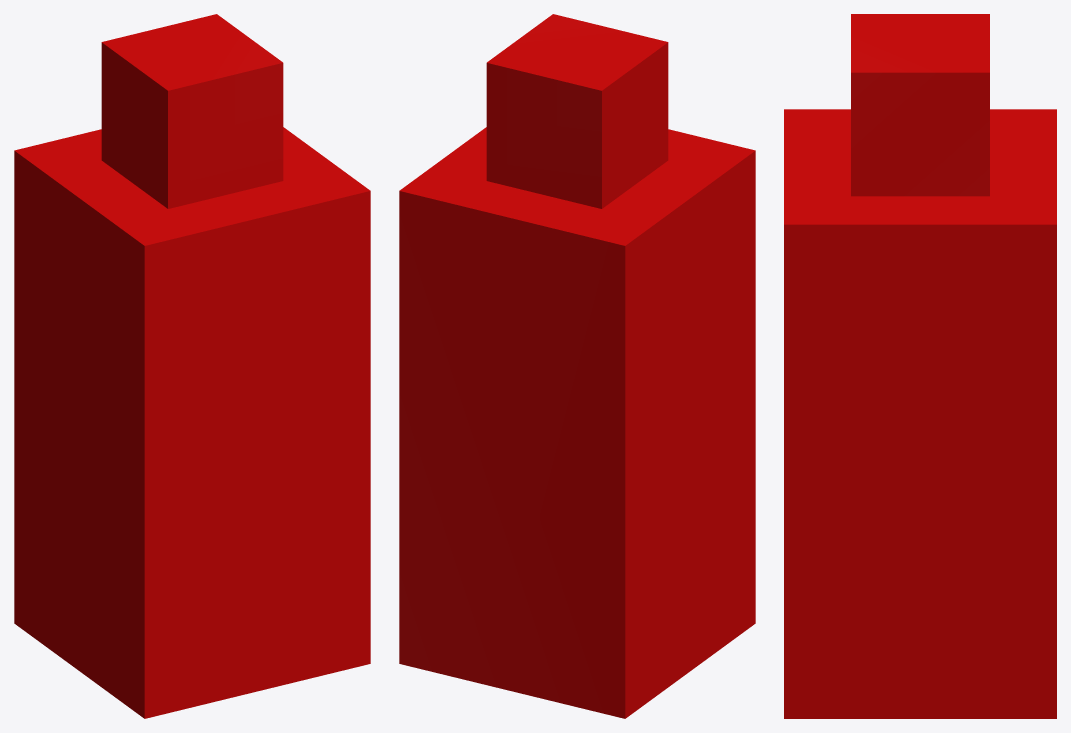
The model's file is WallTower.glb.
3 views of the same model, side by side, from view 1: azimuth 30°, elevation 25°; view 2: azimuth 150°, elevation 25°; view 3: azimuth 270°, elevation 25° (orthographic). The views are drawn at different scales.
Visible parts, largest first — view 1: WallTower; view 2: WallTower; view 3: WallTower.
Part boxes in pixels (<box>): WallTower: <box>14,14,370,718</box>; WallTower: <box>399,14,755,718</box>; WallTower: <box>784,14,1056,718</box>.
Size of the model in its own units: 0.4 by 1 by 0.4.
